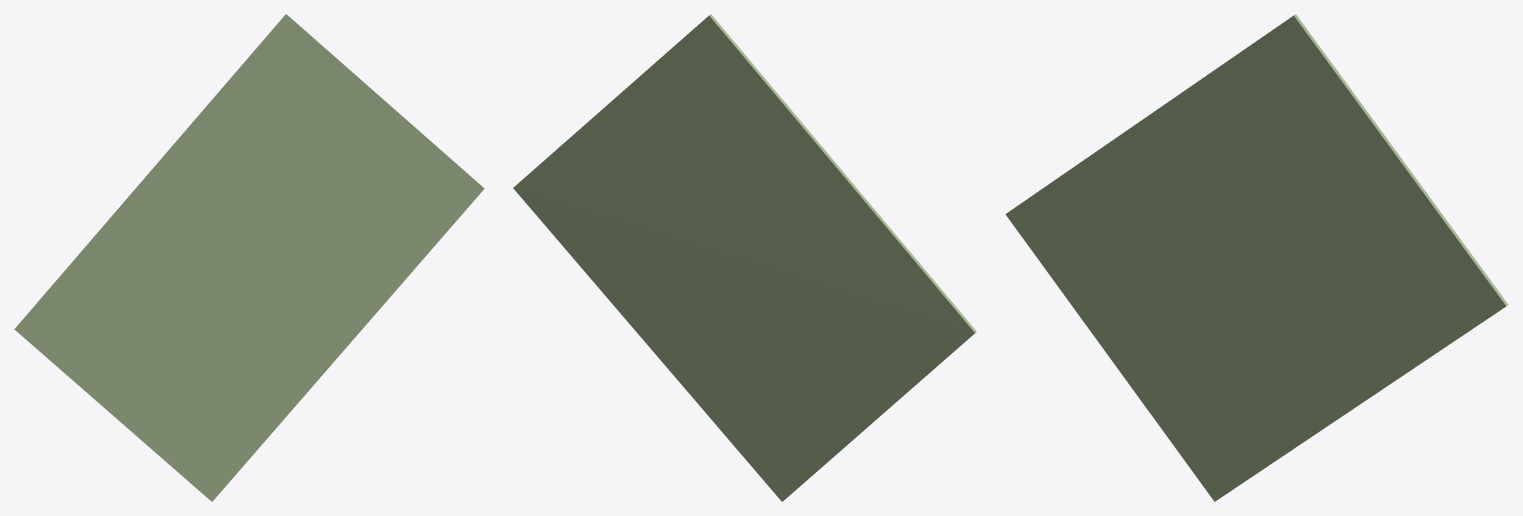
3 renders of one model, left to right at view 1: azimuth 30°, elevation 25°; view 2: azimuth 150°, elevation 25°; view 3: azimuth 330°, elevation 25°, orthographic. The views are drawn at different scales.
Visible parts, largest first — view 1: urn:npust:smart-agriculture-management-platform:face:field-t; view 2: urn:npust:smart-agriculture-management-platform:face:field-t; view 3: urn:npust:smart-agriculture-management-platform:face:field-t.
Part boxes in pixels (<box>): urn:npust:smart-agriculture-management-platform:face:field-t: <box>14,14,484,501</box>; urn:npust:smart-agriculture-management-platform:face:field-t: <box>513,14,976,501</box>; urn:npust:smart-agriculture-management-platform:face:field-t: <box>1005,14,1508,501</box>.
Size of the model in its own units: 34.17 by 32.87 by 0.553.
